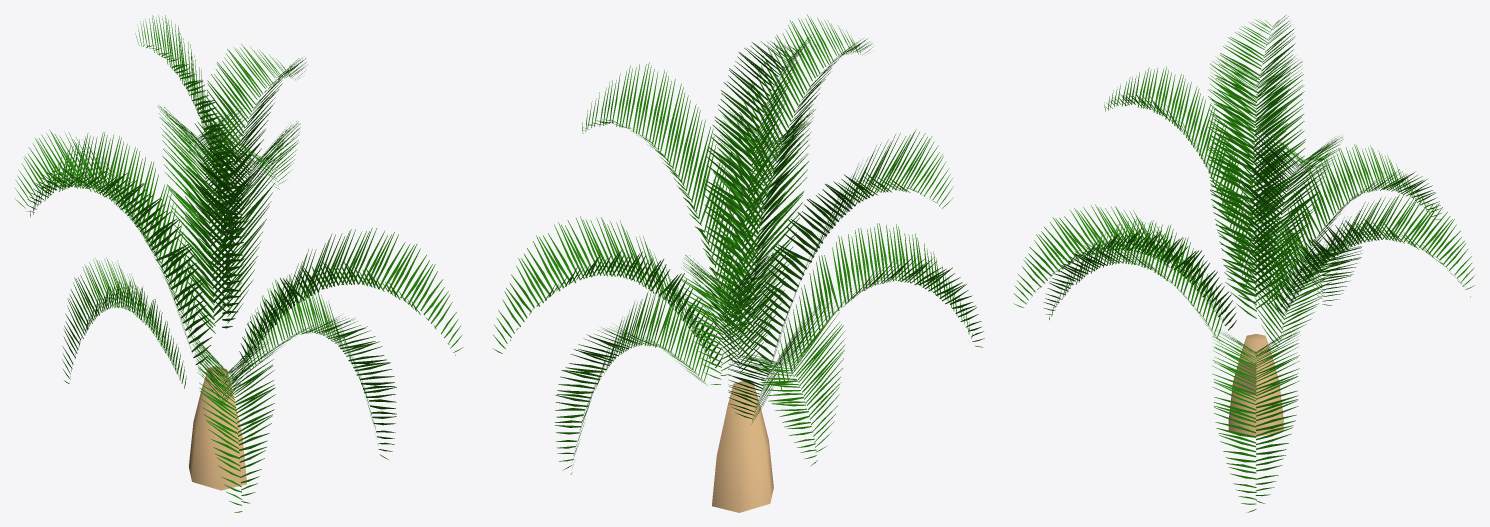
Rendered from palmaSago.obj.
3 renders of one model, left to right at view 1: azimuth 30°, elevation 25°; view 2: azimuth 150°, elevation 25°; view 3: azimuth 270°, elevation 25°, orthographic. The views are drawn at different scales.
Visible parts, largest first — view 1: Plant_SagoPalm:Plant_SagoPalm; view 2: Plant_SagoPalm:Plant_SagoPalm; view 3: Plant_SagoPalm:Plant_SagoPalm.
Boxes of the visible parts, bbox=[...] form: Plant_SagoPalm:Plant_SagoPalm: bbox=[14, 14, 463, 512]; Plant_SagoPalm:Plant_SagoPalm: bbox=[492, 14, 984, 512]; Plant_SagoPalm:Plant_SagoPalm: bbox=[1013, 15, 1474, 512].
Size of the model in its own units: 1.3 by 1.63 by 1.69.
Materials: 2 (2 with a texture image).
